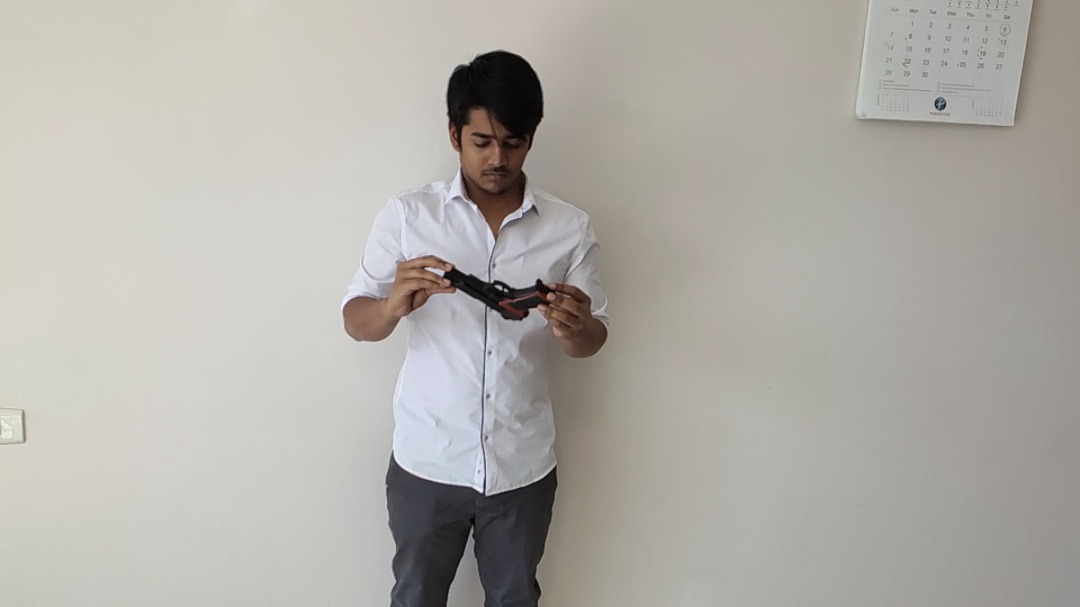gun: (445, 267, 550, 322)
